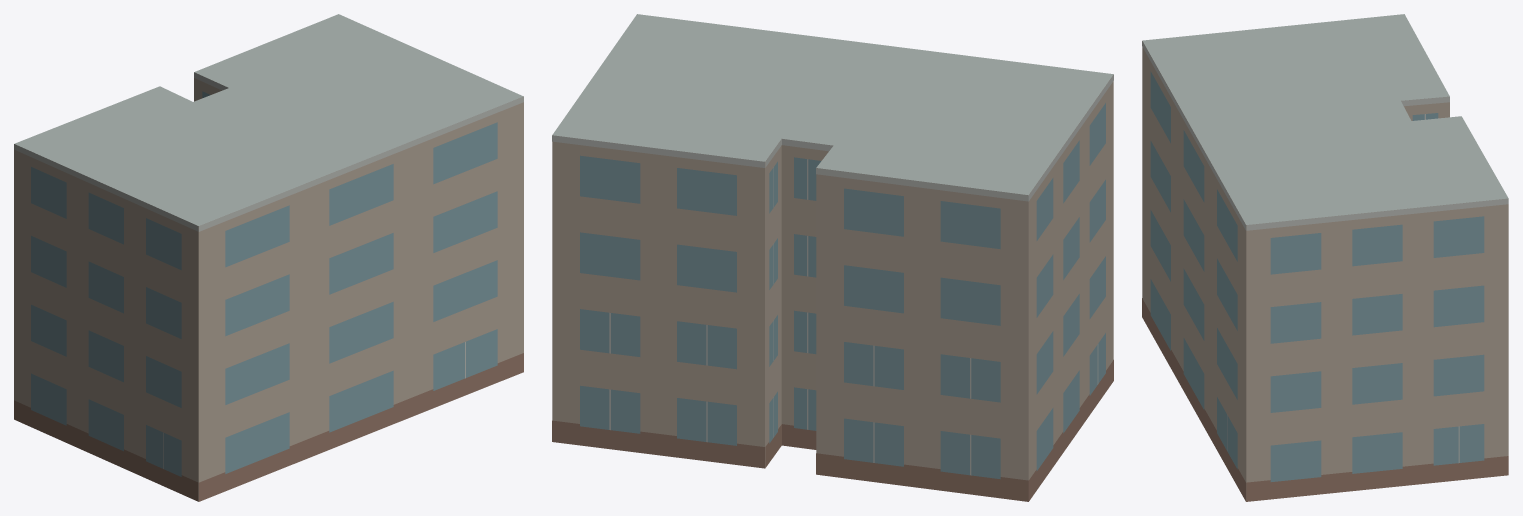
Rendered from survey-upis-32650951.glb.
3 views of the same model, side by side, from view 1: azimuth 30°, elevation 25°; view 2: azimuth 150°, elevation 25°; view 3: azimuth 270°, elevation 25° (orthographic). The views are drawn at different scales.
Visible parts, largest first — view 1: survey-upis-32650951.tmp; view 2: survey-upis-32650951.tmp; view 3: survey-upis-32650951.tmp.
Part boxes in pixels (bbox=[...]): survey-upis-32650951.tmp: bbox=[14, 14, 523, 501]; survey-upis-32650951.tmp: bbox=[552, 14, 1113, 501]; survey-upis-32650951.tmp: bbox=[1142, 14, 1508, 501].
Bounding box in the file's own units: 19.31 × 11.8 × 14.17.
